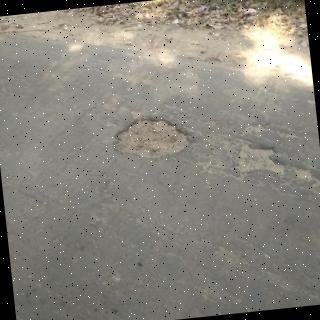pothole: (112, 118, 191, 160)
